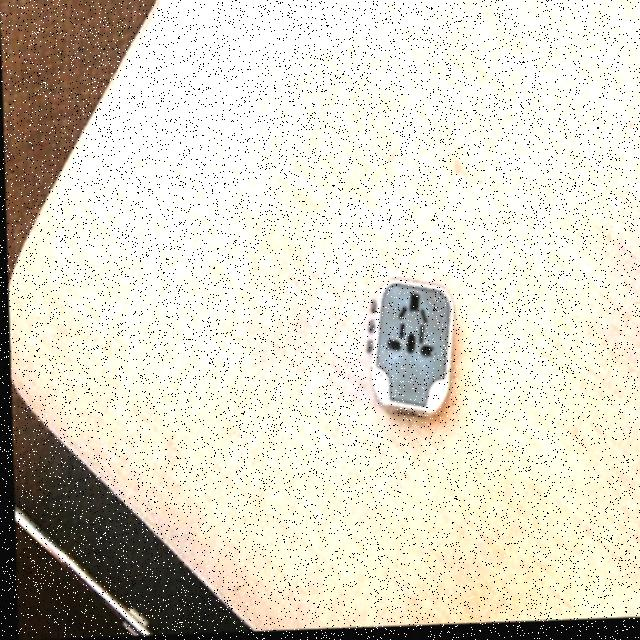adapter: (361, 278, 454, 421)
